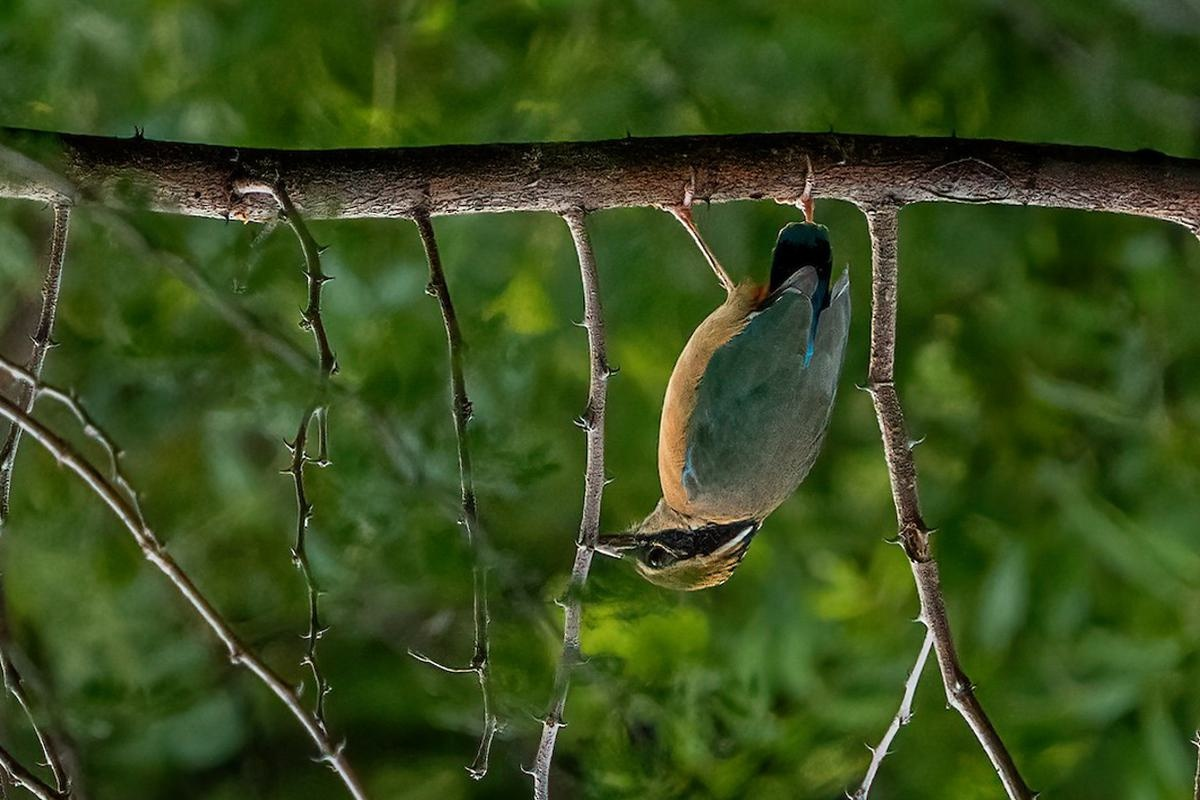pitta: (577, 176, 861, 651)
